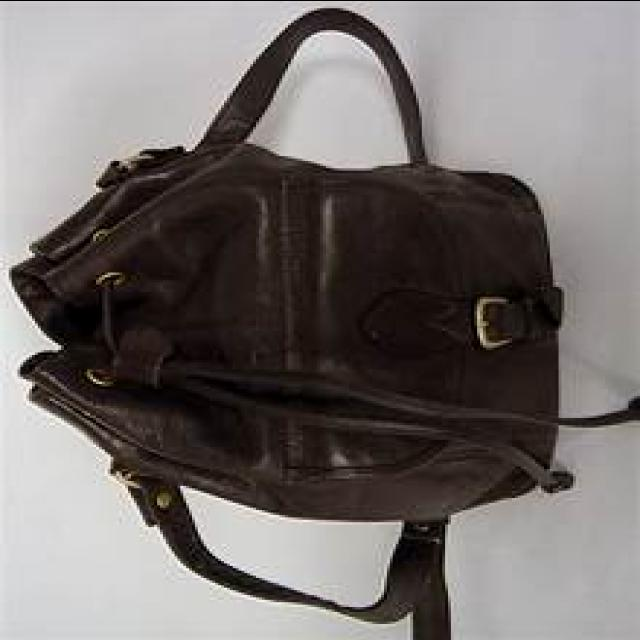backpack: (7, 9, 639, 640)
